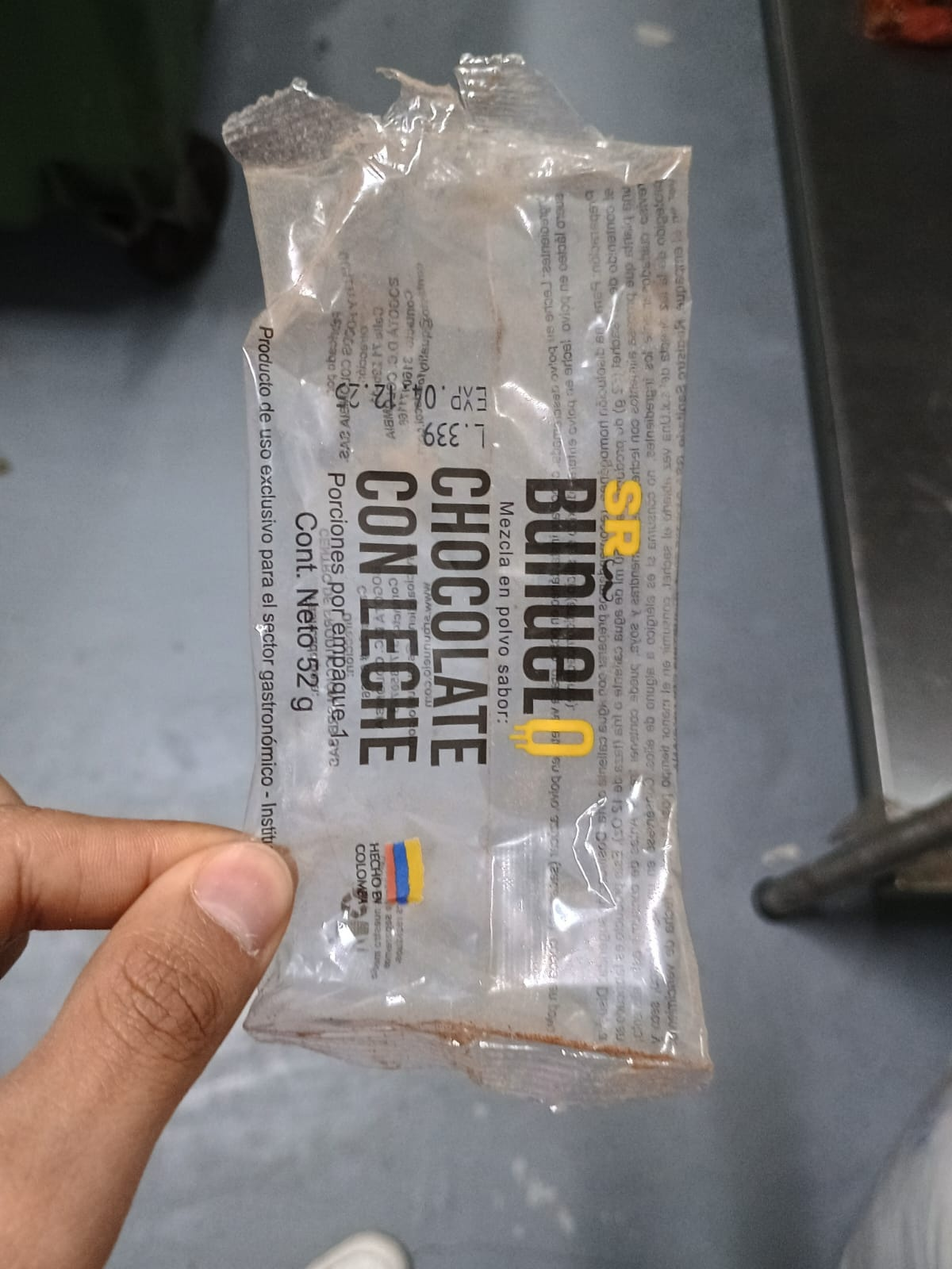Ordinario: (223, 57, 713, 1113)
